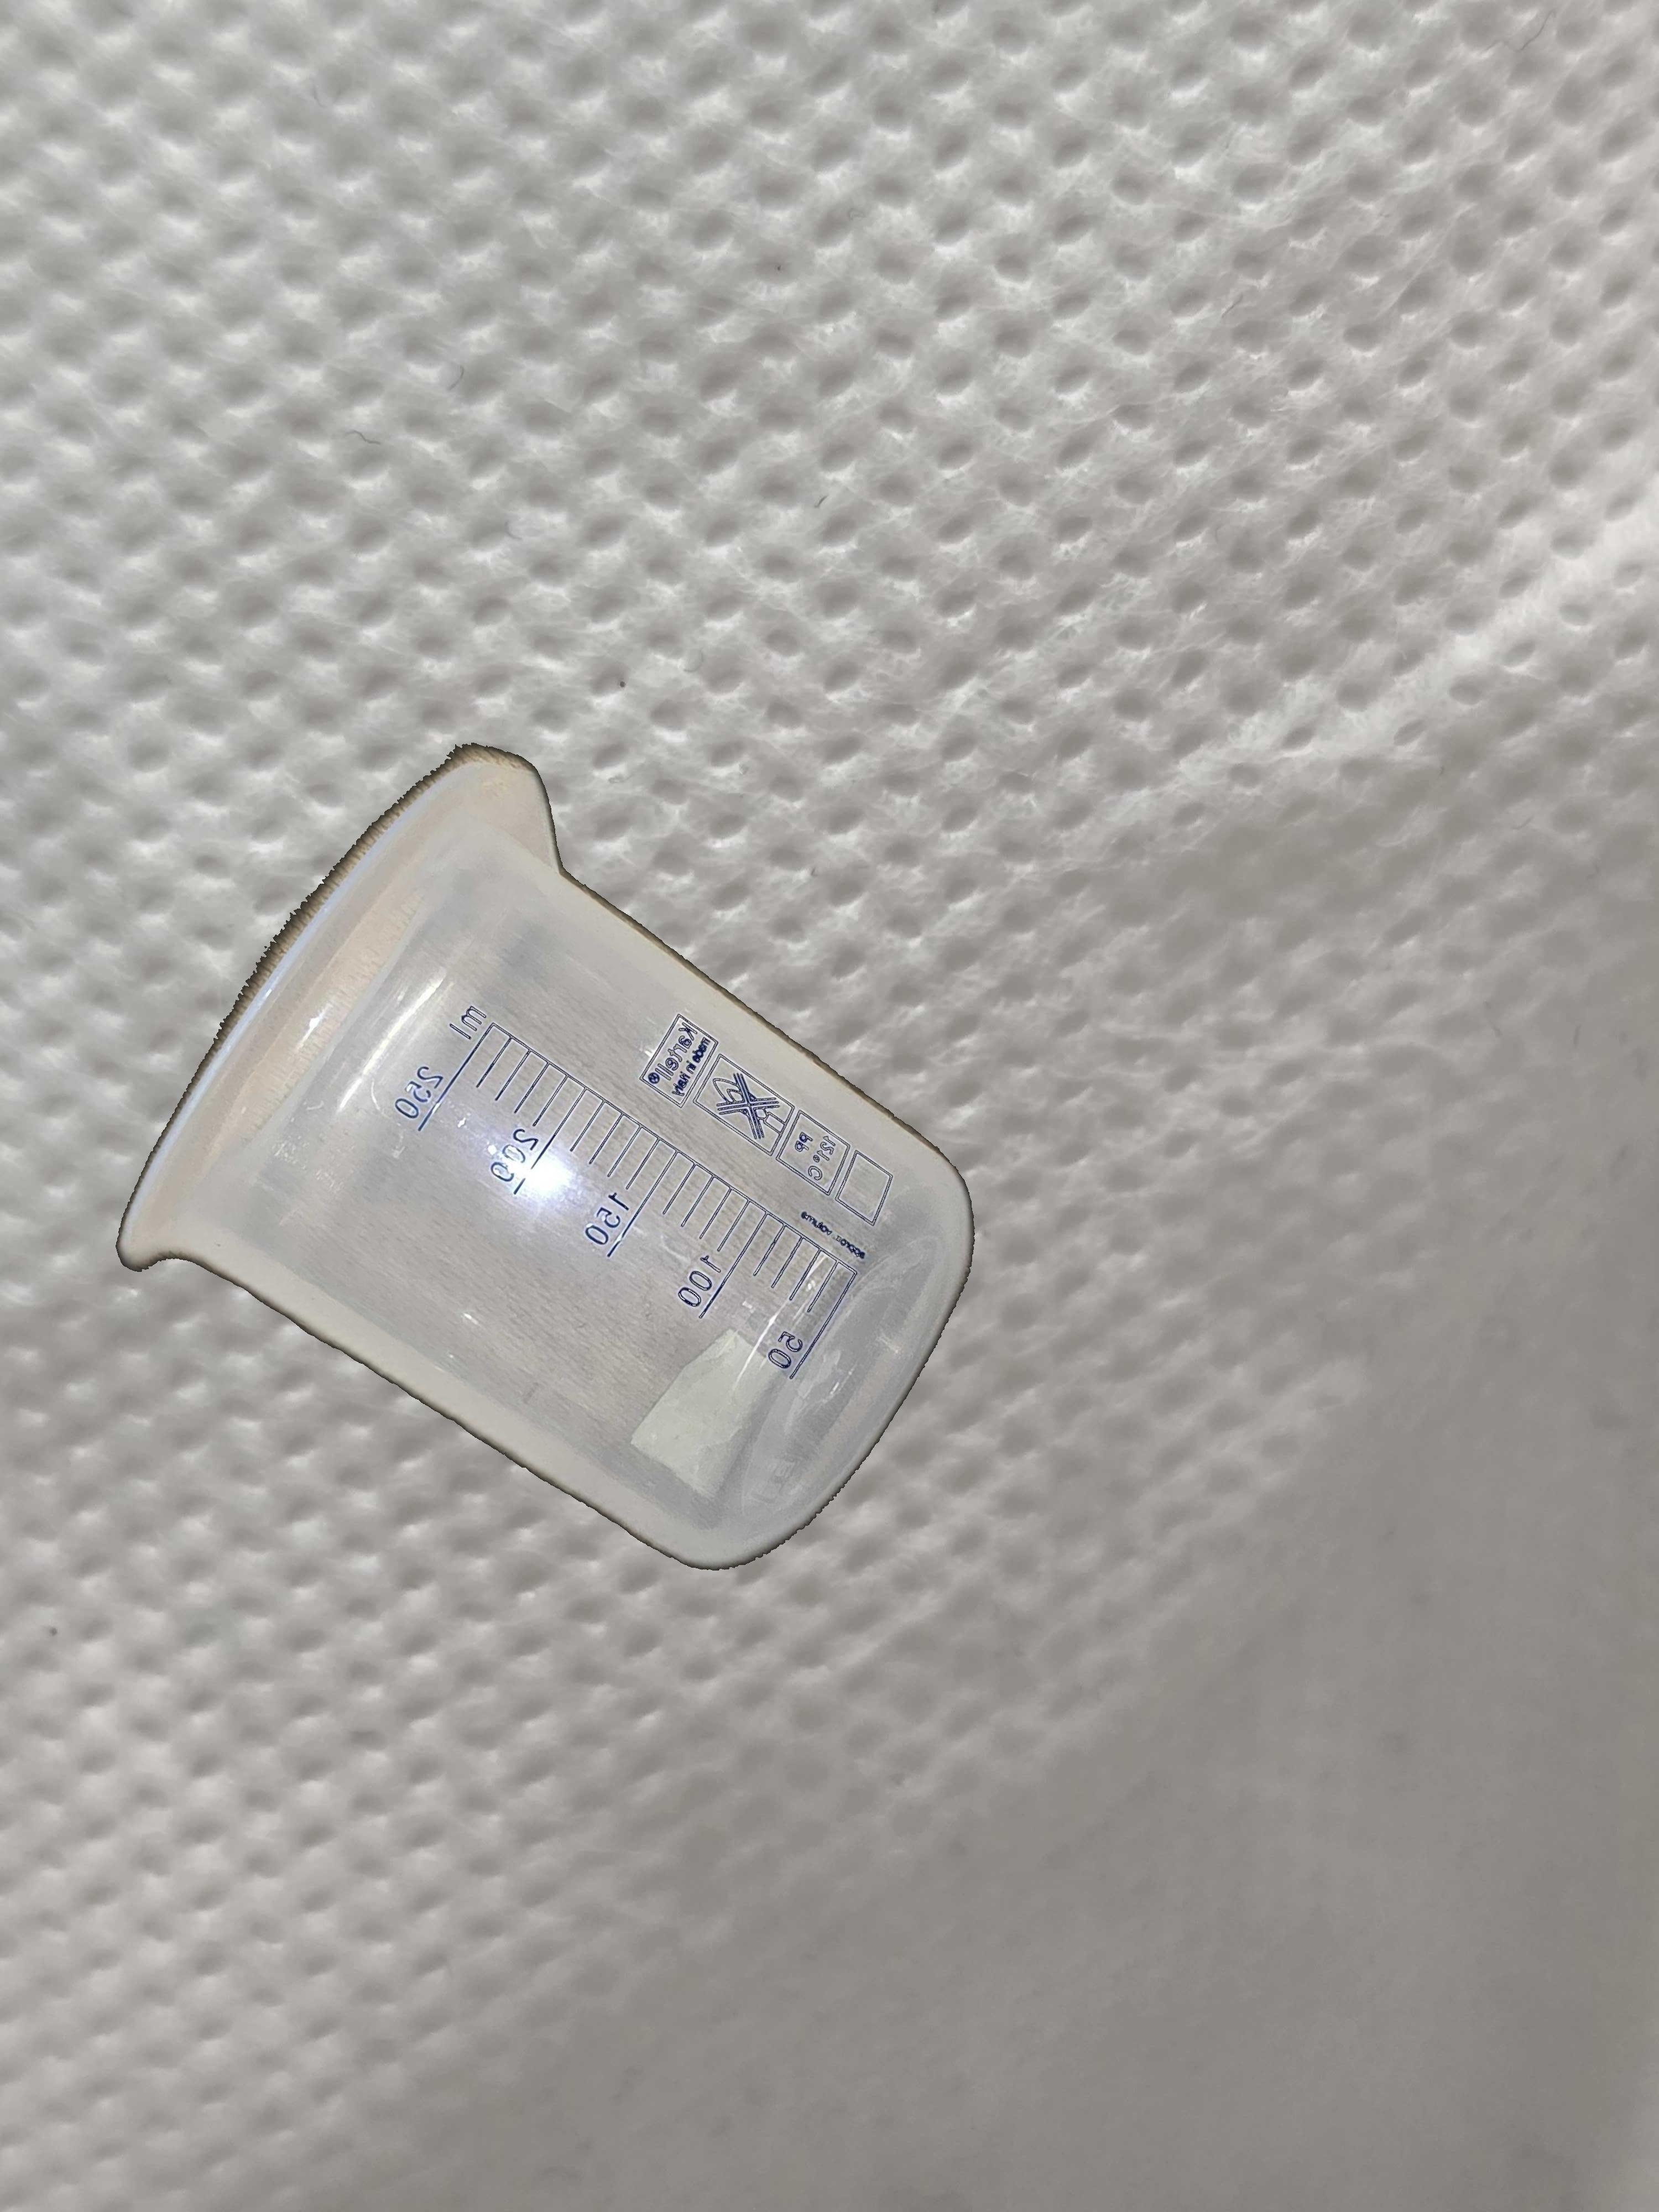becker: (113, 742, 976, 1580)
